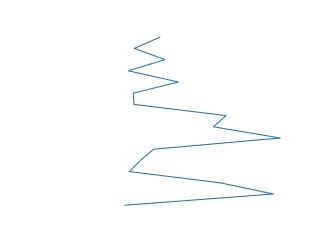majorRiverBedLagDeposit: (116, 35, 285, 209)
